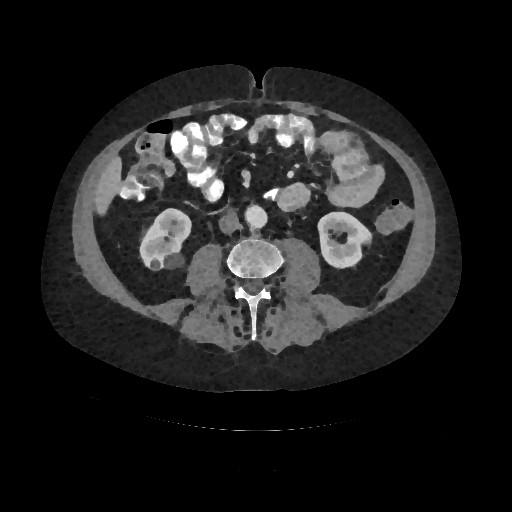Lesion: (162, 248, 189, 274)
